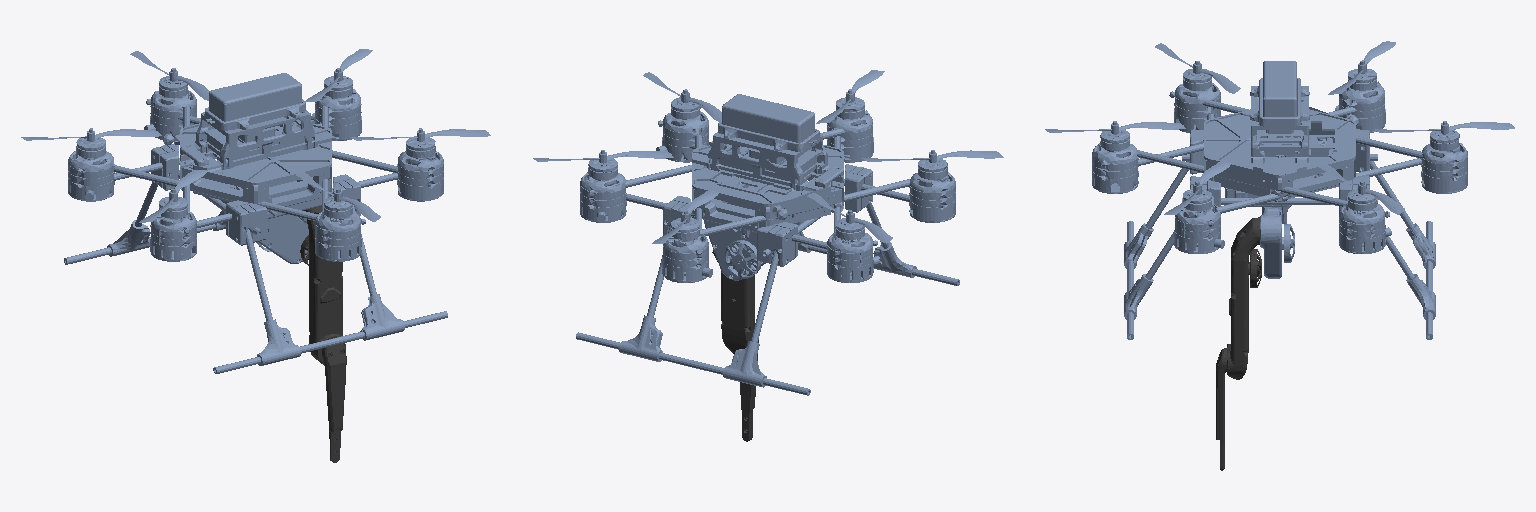
URDF robot description (borinot_flynig_arm_2):
<?xml version="1.0" encoding="utf-8"?>
<robot name="borinot_flynig_arm_2">
  <material name="light_blue">
      <color rgba="0.5569 0.6313 0.7479 1"/>
  </material>
  <material name="dark_blue">
      <color rgba="0.3 0.3 0.3 1"/>
  </material>
  <link name="borinot__base_link">
    <inertial>
      <origin
        xyz="0.0 0.00244 0.0202"
        rpy="0 0 0" />
      <mass value="2.647" />
      <inertia ixx="0.027246422051605018" ixy="-0.0" ixz="0.0" iyy="0.026854677520396303" iyz="0.0"
        izz="0.039807168462897885" />
    </inertial>
    <visual>
      <origin xyz="0 0 0" rpy="0 0 0" />
      <geometry>
        <mesh
          filename="package://example-robot-data/robots/borinot_description/meshes/borinot__base_link.dae" />
      </geometry>
      <material name="light_blue"/>
    </visual>
    <collision>
      <origin xyz="0 0 0" rpy="0 0 0" />
      <geometry>
        <mesh
          filename="package://example-robot-data/robots/borinot_description/meshes/borinot__base_link.dae" />
      </geometry>
    </collision>
  </link>

  <!-- link imported from solo12, with axes properly swaped -->
  <link name="flying_arm_2__link1">
    <inertial>
      <origin xyz="0.00001377 -0.07870700 -0.01935853" rpy="0 0 0" />
      <mass value="0.14853845" />
      <inertia ixx="0.00041107" ixy="0.0" ixz="0.0" iyy="0.00003024" iyz="-0.00004671"
        izz="0.00041193" />
    </inertial>
    <visual>
      <origin xyz="0 0 0" rpy="0 0 0" />
      <geometry>
        <mesh
          filename="package://example-robot-data/robots/borinot_description/meshes/flying_arm_2__link1.dae" />
      </geometry>
      <material name="dark_blue"/>
    </visual>
    <collision>
      <origin xyz="0 0 0" rpy="0 0 0" />
      <geometry>
        <mesh
          filename="package://example-robot-data/robots/borinot_description/meshes/flying_arm_2__link1.dae" />
      </geometry>
    </collision>
  </link>

  <joint name="flying_arm_2__j_bl_link1" type="revolute">
    <origin xyz="0.064701 -0.022177 -0.05075" rpy="1.5708 0 -3.1416" />
    <parent link="borinot__base_link" />
    <child link="flying_arm_2__link1" />
    <axis xyz="0 0 -1" />
    <limit effort="2.5" lower="-1.6707963267948966" upper="1.6707963267948966" velocity="10000" />
  </joint>

  <!-- link with the steel m24 nut at the end -->
  <link name="flying_arm_2__link2">
    <inertial>
      <origin xyz="0.0 -0.1149 -0.021" rpy="0 0 0" />
      <mass value="0.115" />
      <inertia ixx="1.7554e-4" ixy="0.0" ixz="0.0"
        iyy="1.972e-5" iyz="0.0" izz="1.7938e-4" />
    </inertial>
    <visual>
      <origin xyz="0 0 0" rpy="0 0 0" />
      <geometry>
        <mesh
          filename="package://example-robot-data/robots/borinot_description/meshes/flying_arm_2__link2.dae" />
      </geometry>
      <material name="dark_blue"/>
    </visual>
    <collision>
      <origin xyz="0 0 0" rpy="0 0 0" />
      <geometry>
        <mesh
          filename="package://example-robot-data/robots/borinot_description/meshes/flying_arm_2__link2.dae" />
      </geometry>
    </collision>
  </link>

  <joint name="flying_arm_2__j_link1_link2" type="revolute">
    <origin xyz="0 -0.160 -0.03715" rpy="0 0 0" />
    <parent link="flying_arm_2__link1" />
    <child link="flying_arm_2__link2" />
    <axis xyz="0 0 -1" />
    <limit effort="2.5" lower="-1.6707963267948966" upper="1.6707963267948966" velocity="10000" />
  </joint>

  <link name="flying_arm_2__ee">
    <inertial>
      <origin xyz="0 0 0" rpy="0 0 0" />
      <mass value="0.0" />
      <inertia ixx="0" ixy="0" ixz="0" iyy="0" iyz="0" izz="0" />
    </inertial>
  </link>

  <joint name="flying_arm_2__j_link2_ee" type="fixed">
    <!-- x pointing forward -->
    <origin xyz="0 -0.130 0" rpy="0 0 -1.5708" />
    <parent link="flying_arm_2__link2" />
    <child link="flying_arm_2__ee" />
    <axis xyz="0 0 -1" />
    <limit lower="0" upper="0" effort="0" velocity="0" />
  </joint>
</robot>

--- Render facts (derived) ---
3 views of the same robot in one strip: view 1: azimuth 30°, elevation 25°; view 2: azimuth 150°, elevation 25°; view 3: azimuth 270°, elevation 25° (orthographic).
Model borinot_flynig_arm_2 with 4 links and 3 joints (2 revolute, 1 fixed), rooted at borinot__base_link, posed all joints at 0.
Links seen in each view (by area): view 1: borinot__base_link, flying_arm_2__link1, flying_arm_2__link2; view 2: borinot__base_link, flying_arm_2__link1, flying_arm_2__link2; view 3: borinot__base_link, flying_arm_2__link1, flying_arm_2__link2.
Boxes of the visible links, <box> form: borinot__base_link: <box>21,49,490,373</box>; flying_arm_2__link1: <box>300,205,345,365</box>; flying_arm_2__link2: <box>322,344,346,462</box>; borinot__base_link: <box>533,70,1003,395</box>; flying_arm_2__link1: <box>712,250,754,353</box>; flying_arm_2__link2: <box>740,340,758,441</box>; borinot__base_link: <box>1045,41,1514,339</box>; flying_arm_2__link1: <box>1227,217,1261,379</box>; flying_arm_2__link2: <box>1216,348,1226,470</box>.
Size in the robot's own frame: 0.4612 by 0.529 by 0.454 metres.
Meshes: 3 distinct files referenced, 3 mesh visuals loaded (3 Collada DAE).
